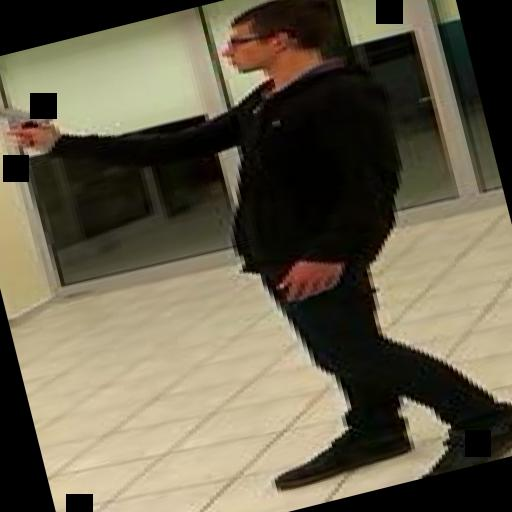Handgun: (0, 90, 58, 157)
